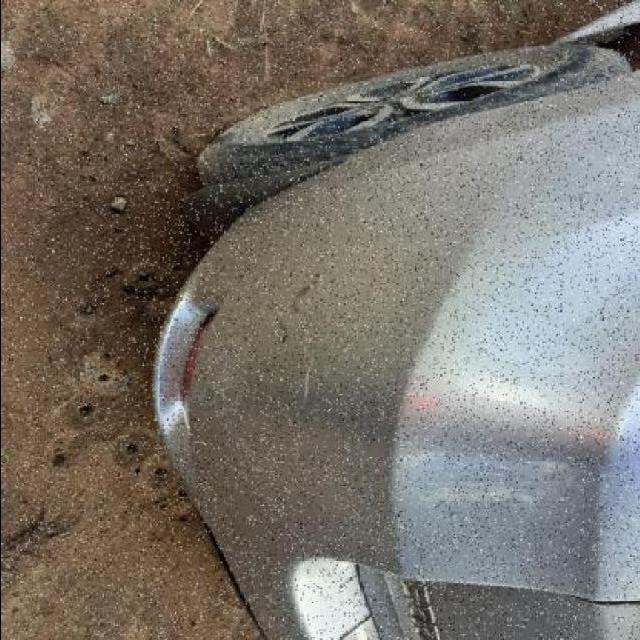rear-bumper-dent: (138, 135, 635, 639)
